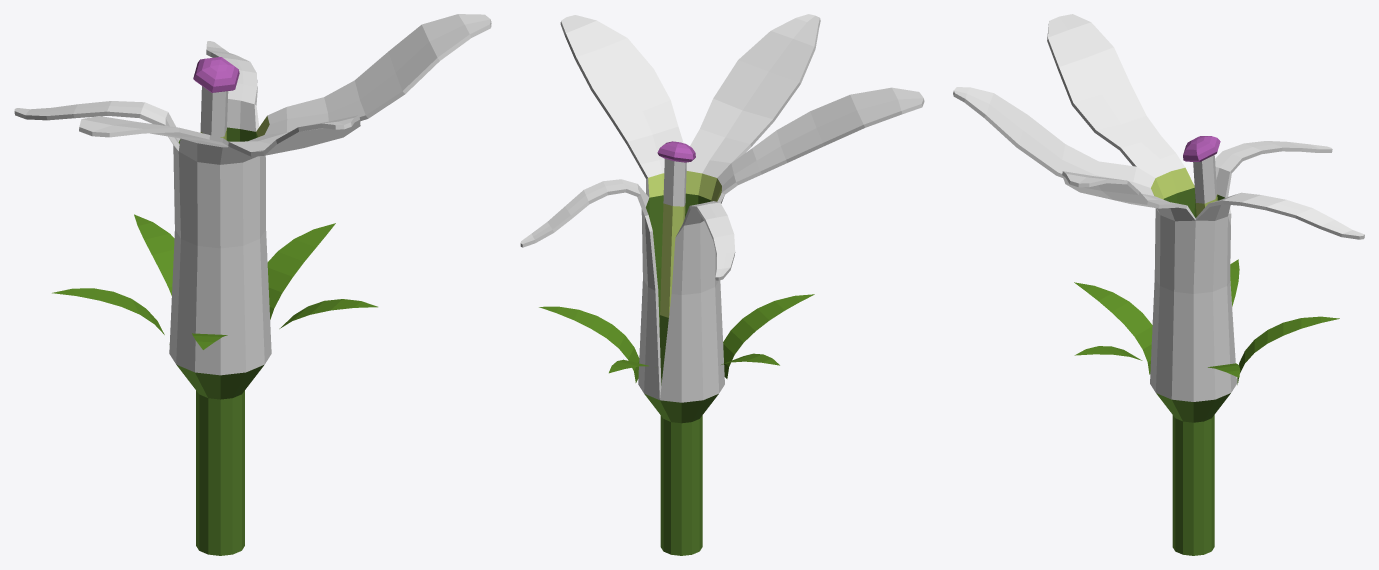
The model's file is plant13.glb.
3 renders of one model, left to right at view 1: azimuth 30°, elevation 25°; view 2: azimuth 150°, elevation 25°; view 3: azimuth 270°, elevation 25°, orthographic. The views are drawn at different scales.
Parts seen in each view (by area): view 1: Sphere, Sphere.001, Cylinder.001; view 2: Sphere, Sphere.001, Cylinder.001; view 3: Sphere, Sphere.001, Cylinder.001.
Part boxes in pixels (x1,y1,x2,y2): Sphere: (14, 14, 491, 555); Sphere.001: (52, 214, 377, 349); Cylinder.001: (193, 57, 239, 139); Sphere: (520, 14, 924, 555); Sphere.001: (539, 294, 814, 382); Cylinder.001: (657, 141, 695, 385); Sphere: (953, 14, 1364, 555); Sphere.001: (1074, 259, 1339, 384); Cylinder.001: (1183, 136, 1220, 216).
Bounding box in the file's own units: 3.11 × 3.77 × 3.13.
